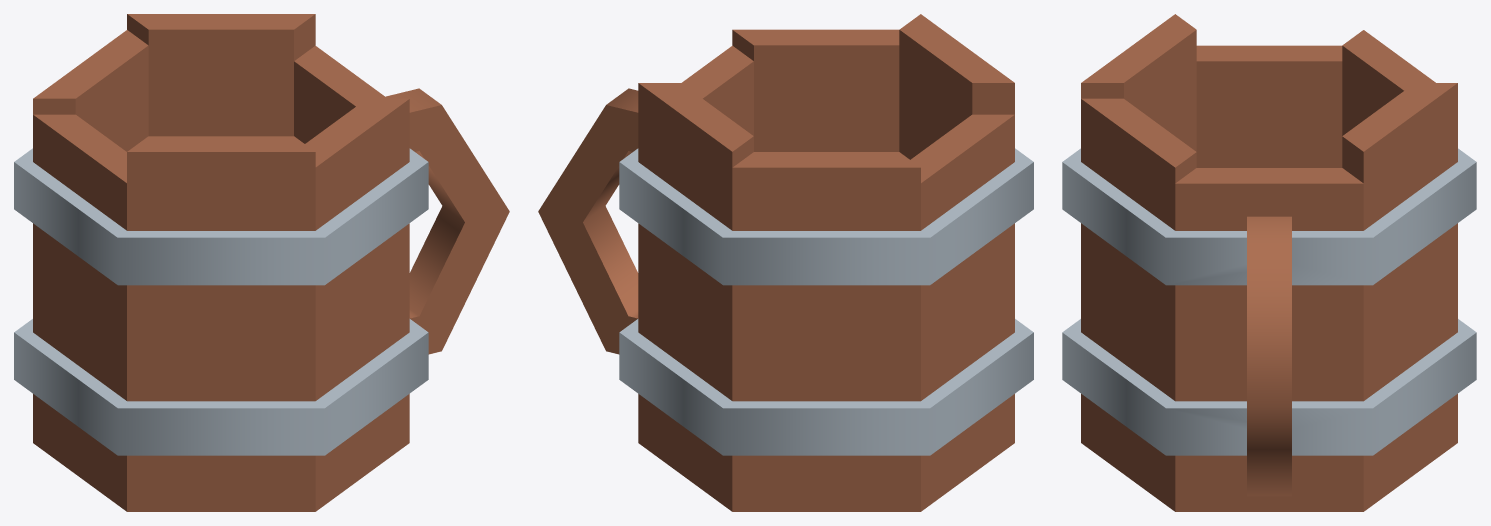
The model's file is mug.glb.
3 renders of one model, left to right at view 1: azimuth 30°, elevation 25°; view 2: azimuth 150°, elevation 25°; view 3: azimuth 270°, elevation 25°, orthographic.
Visible parts, largest first — view 1: mug; view 2: mug; view 3: mug.
Part boxes in pixels (box(x1,y1,x2,y2)): mug: box(14, 14, 509, 511); mug: box(538, 14, 1033, 511); mug: box(1062, 14, 1476, 511).
Size of the model in its own units: 1 by 0.7954 by 0.8296.
